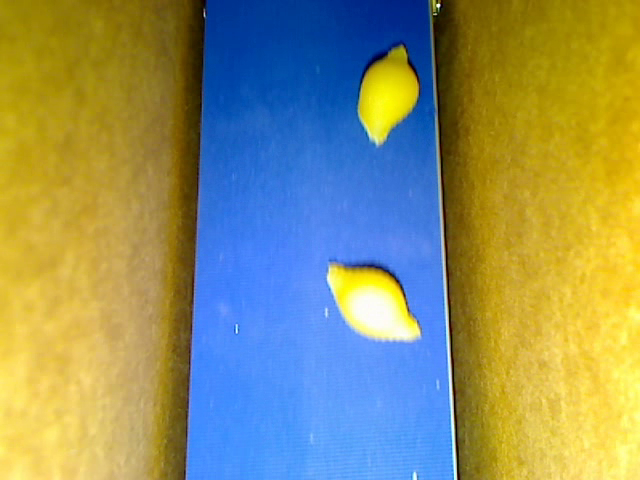shell: (326, 262, 421, 343), (357, 43, 418, 146)
